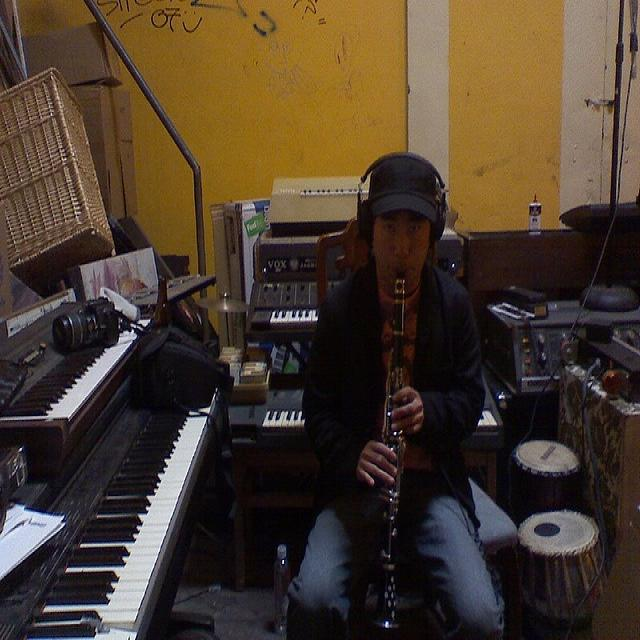clarinet: (369, 268, 413, 636)
